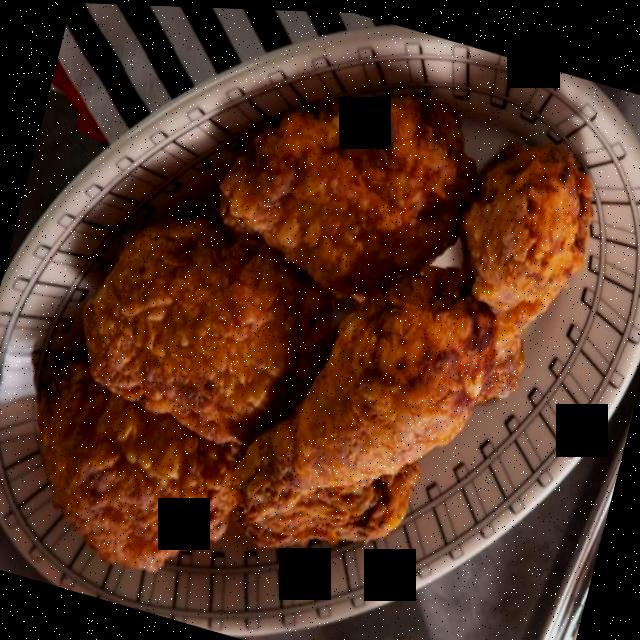Frango: (0, 12, 611, 640)
